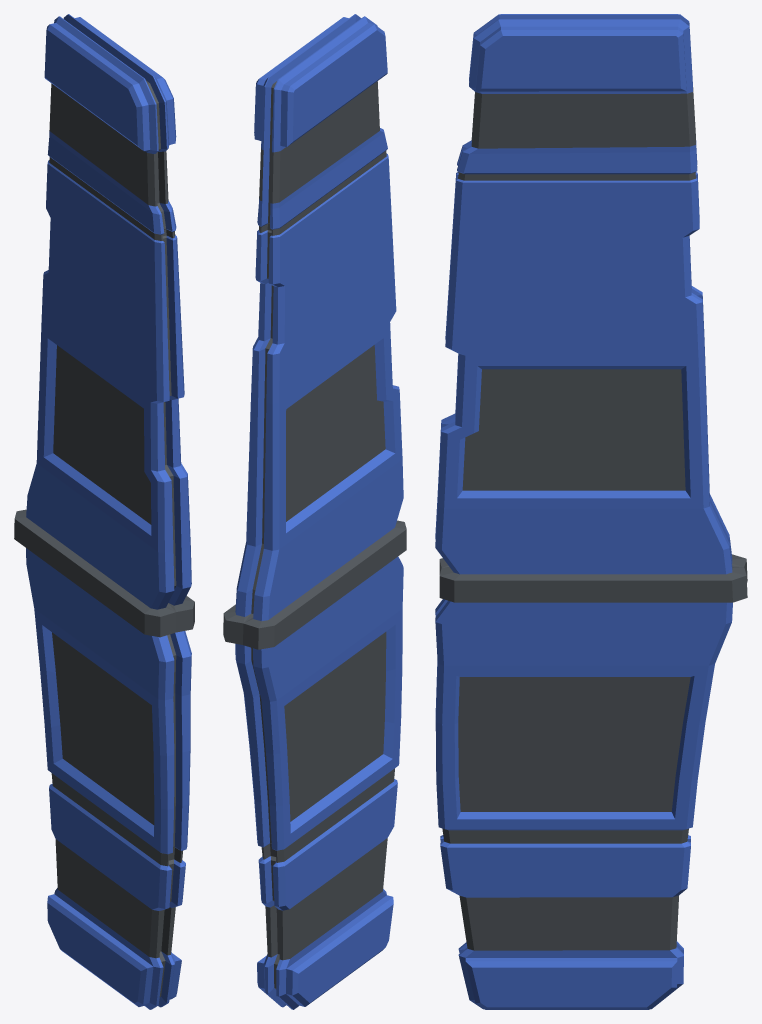
File: Fighter_05_Wing_Left_Blue.fbx
3 views of the same model, side by side, from view 1: azimuth 30°, elevation 25°; view 2: azimuth 150°, elevation 25°; view 3: azimuth 270°, elevation 25° (orthographic). The views are drawn at different scales.
Visible parts, largest first — view 1: Fighter_05_Wing_Left_Blue; view 2: Fighter_05_Wing_Left_Blue; view 3: Fighter_05_Wing_Left_Blue.
Part boxes in pixels (x1=…): Fighter_05_Wing_Left_Blue: x1=14, y1=14, x2=194, y2=1009; Fighter_05_Wing_Left_Blue: x1=223, y1=14, x2=406, y2=1009; Fighter_05_Wing_Left_Blue: x1=435, y1=14, x2=747, y2=1009.
Size of the model in its own units: 103 by 1811 by 518.
Materials: 1 (1 with a texture image).
